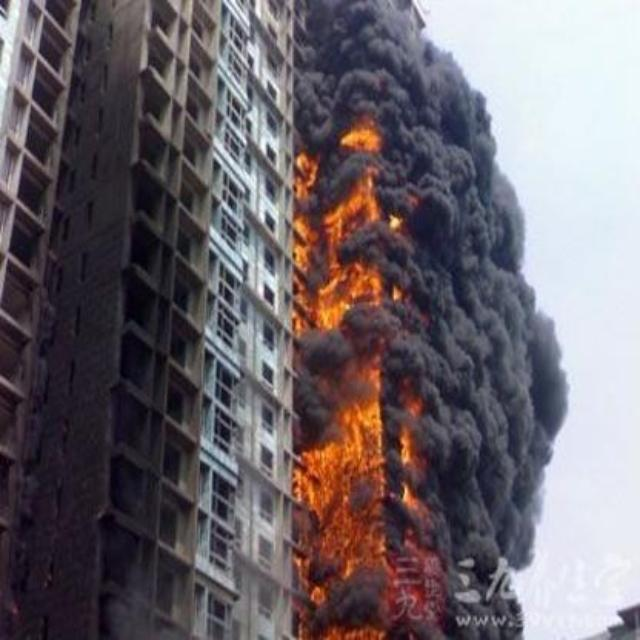Fire: (288, 115, 452, 640)
Smoke: (461, 112, 565, 640), (308, 0, 476, 110)
